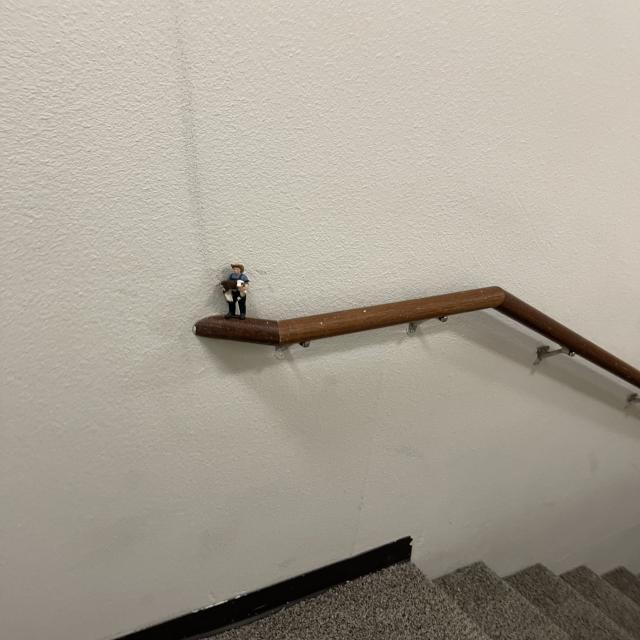cow: (218, 273, 250, 305)
person: (229, 263, 246, 281), (244, 277, 249, 282)
